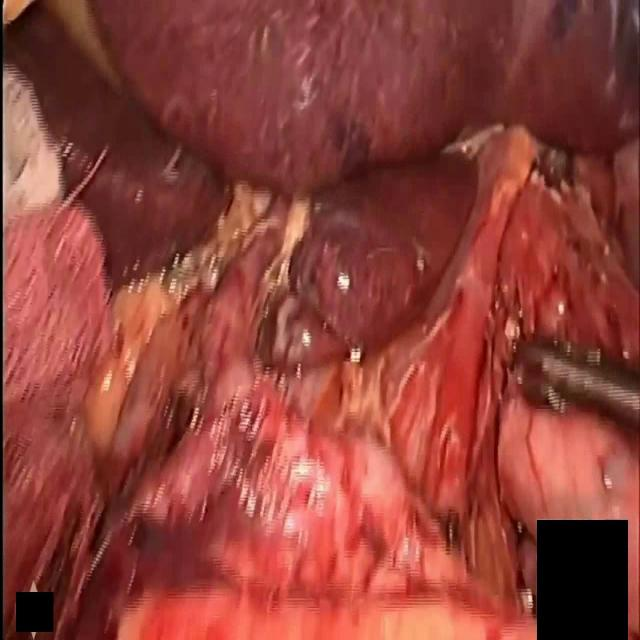surgical-tool: (514, 337, 640, 432)
